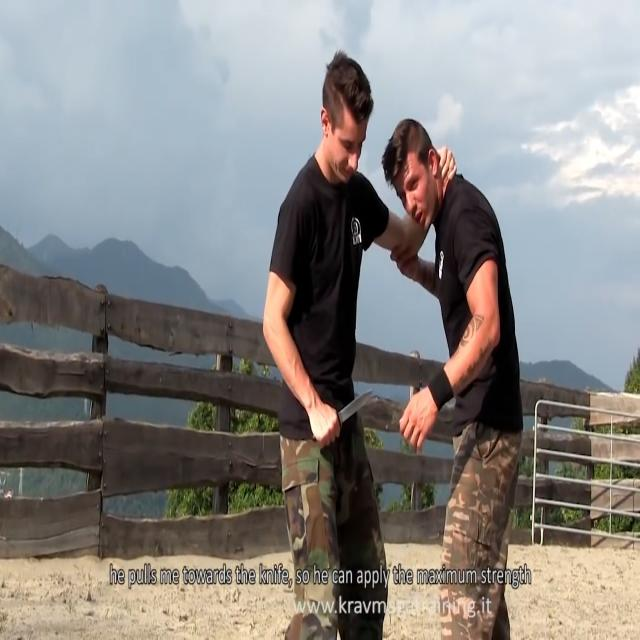knife: (338, 387, 376, 423)
